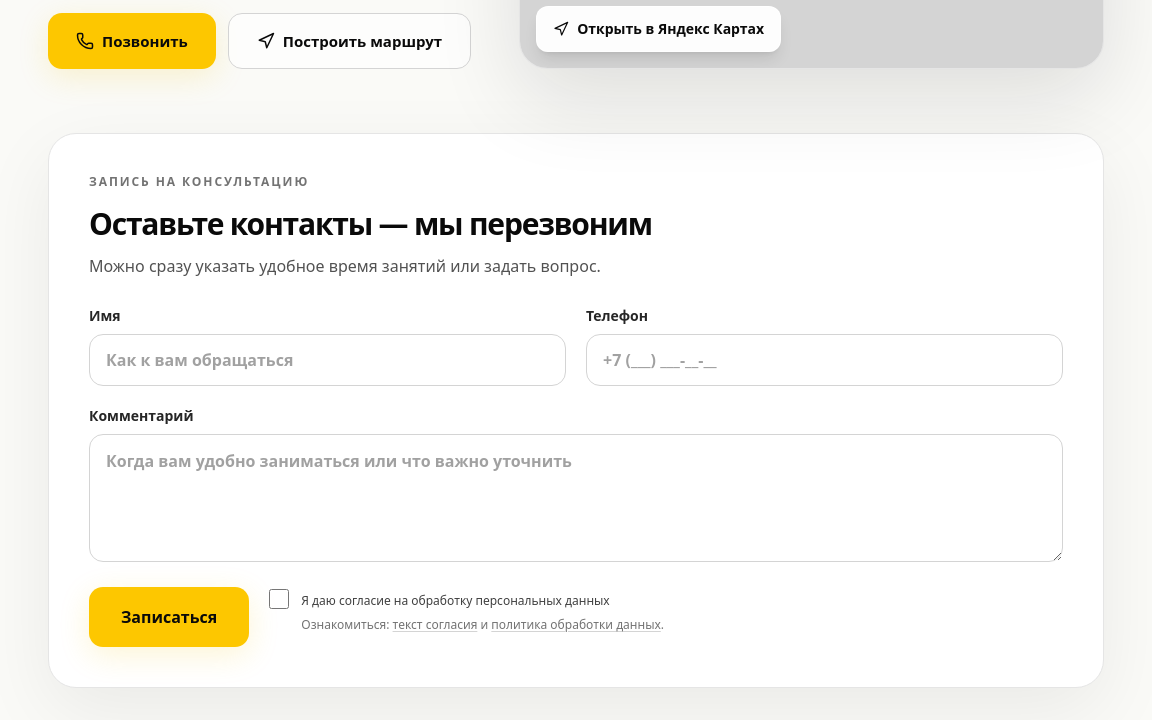
Test case: ContactSection › sends the shared contact form through the leads endpoint
(page scrolled)
Step 1. Type "Илья" into the field labelled "Имя" → (328, 360), box [89,334,566,386]
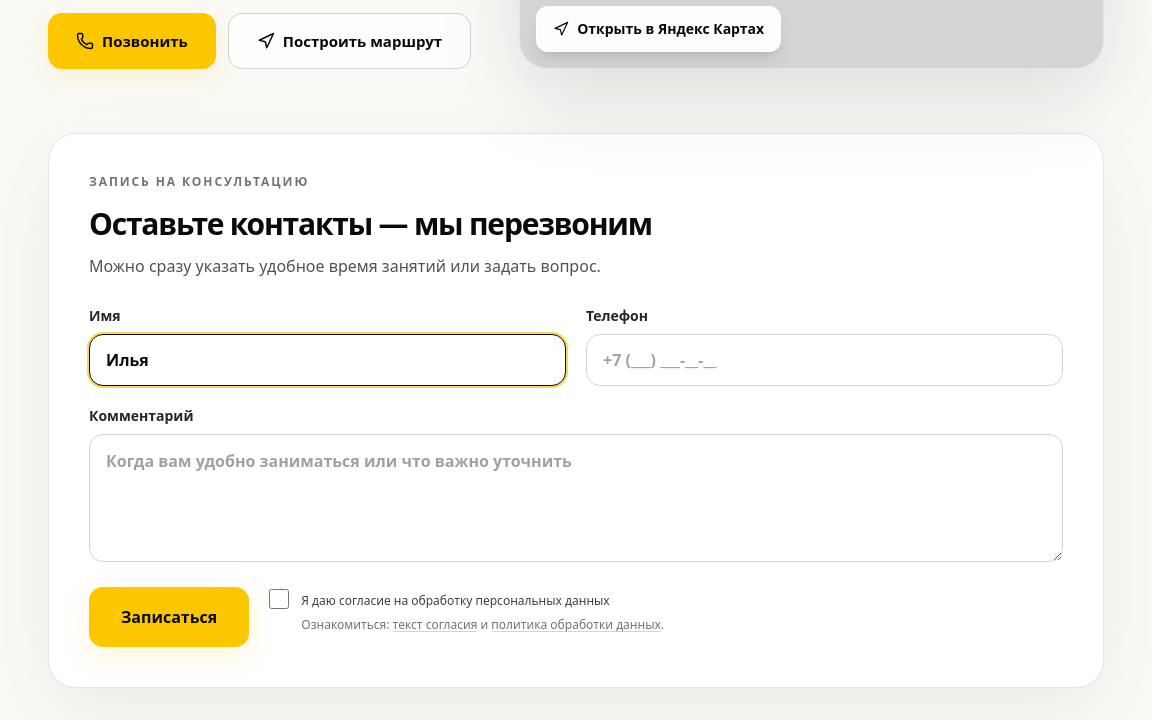
Step 2. Type "+7 999 123-45-67" into the field labelled "Телефон" → (824, 360), box [586,334,1063,386]
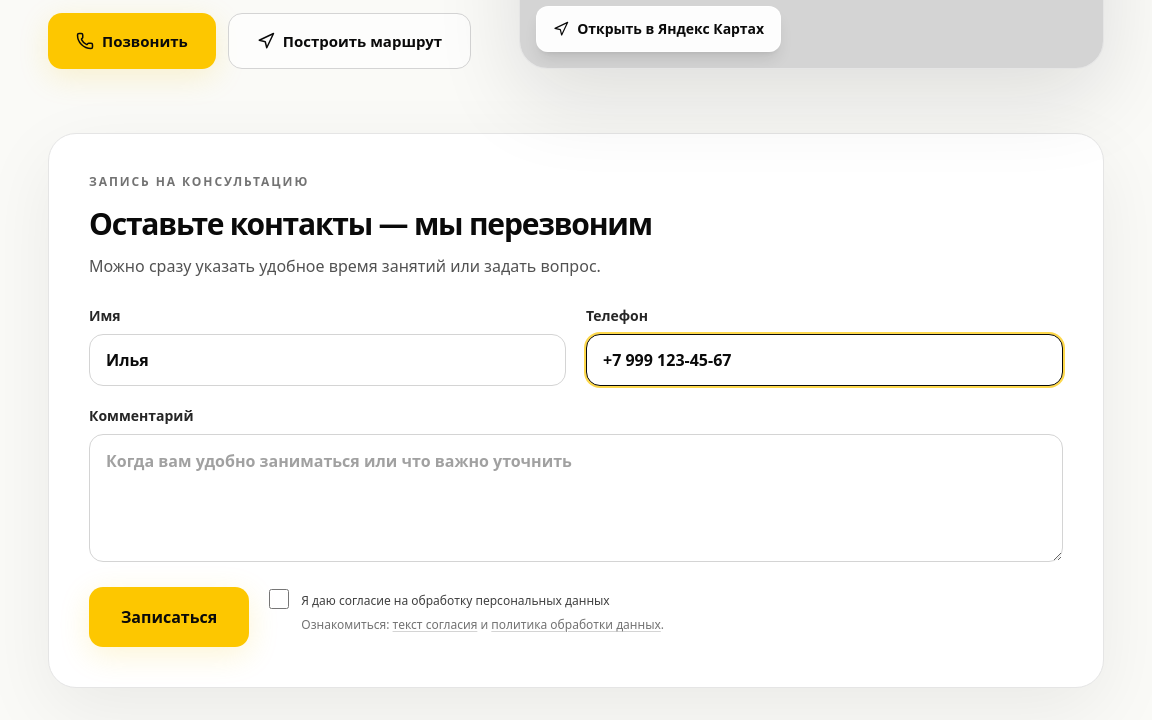
Step 3. Type "Хочу заниматься вечером" into the text box labelled "Комментарий" → (576, 498), box [89,434,1063,562]
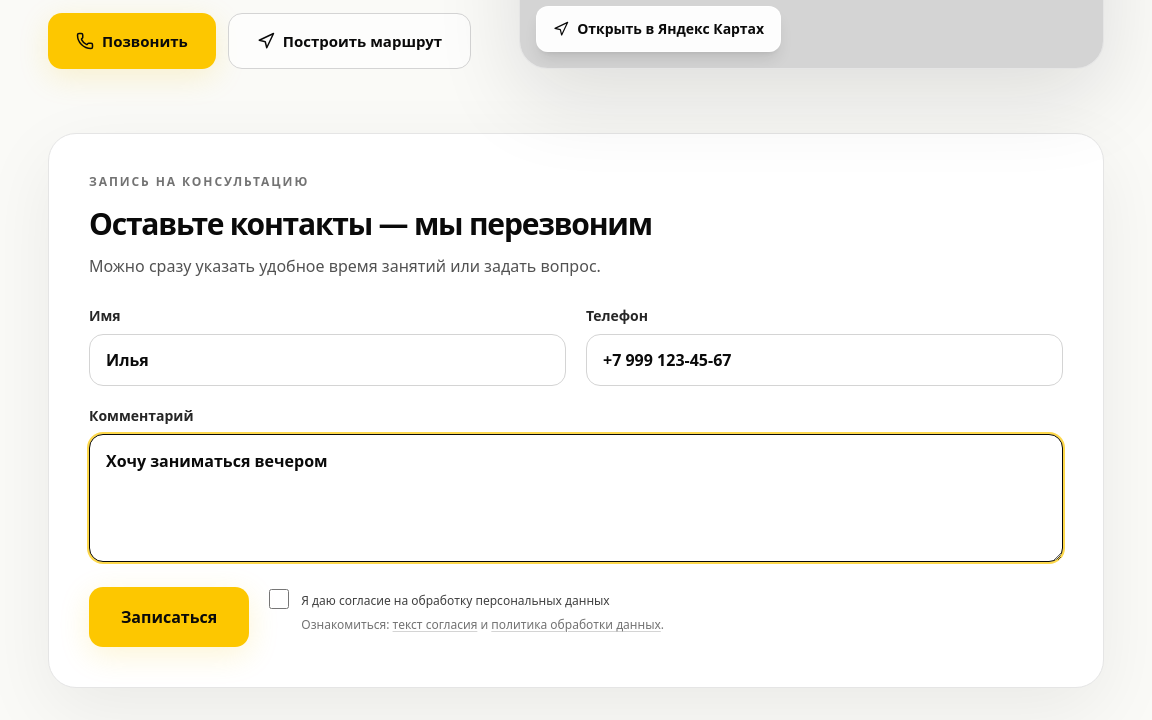
Step 4. Click the checkbox → click(279, 599), box [269,589,289,609]
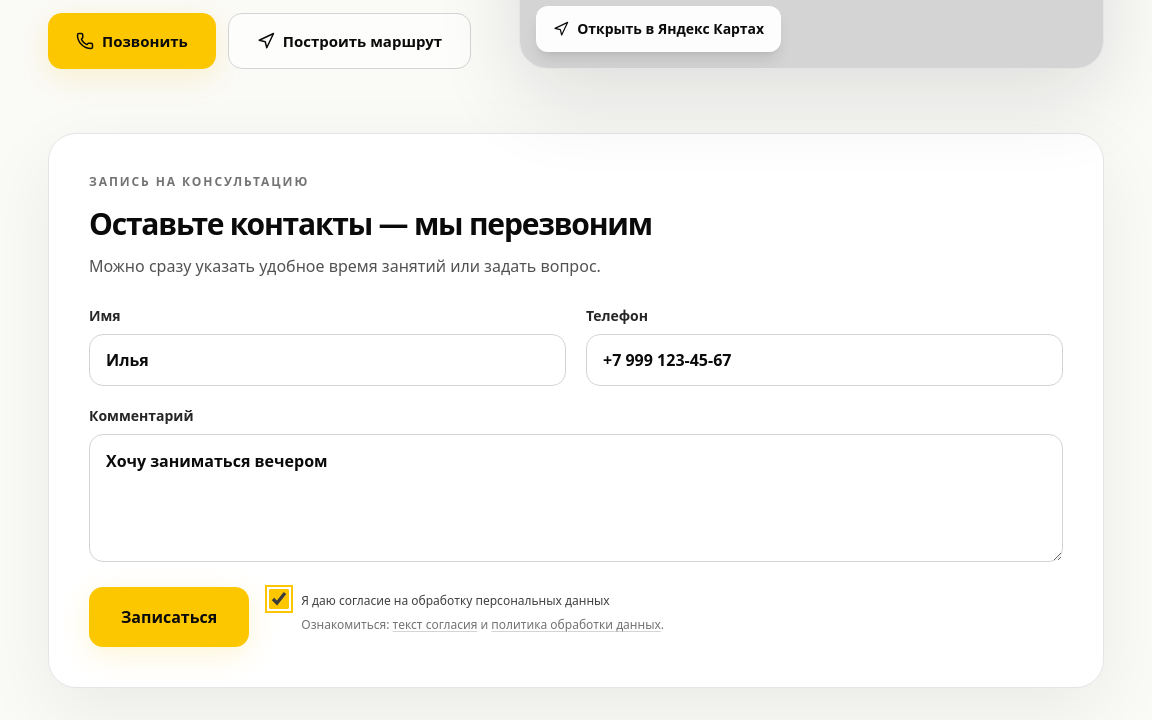
Step 5. Click the button "Записаться" → click(169, 617), box [89,587,249,647]
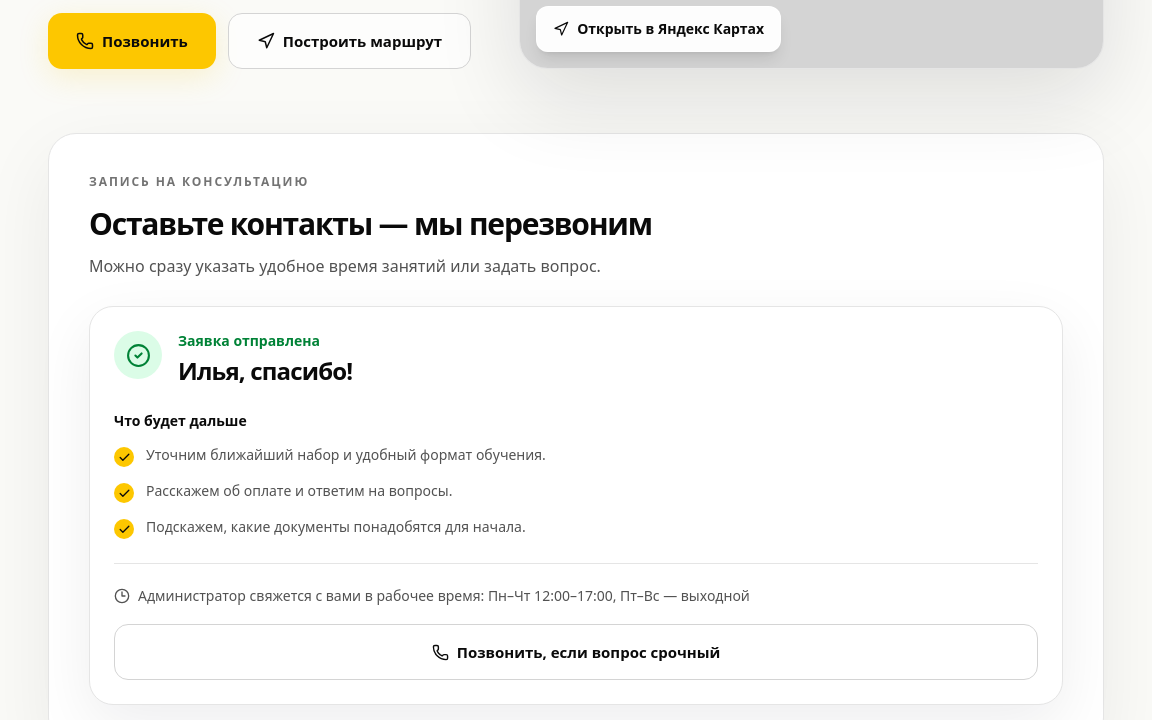
Now the message shows "Заявка отправлена", box [178,331,320,350]
